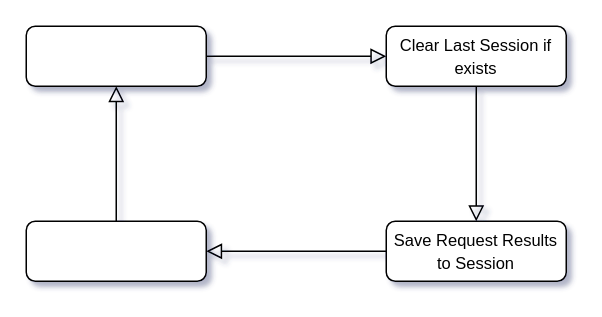
Image size: 602x317. Some labels were removed from this diagram. The box of each missing label's shape, as (x1, y1, x2, y2) in pixels:
Access Results globally through Session.: (25, 220, 206, 281)
News-API Requests: (25, 25, 206, 86)
